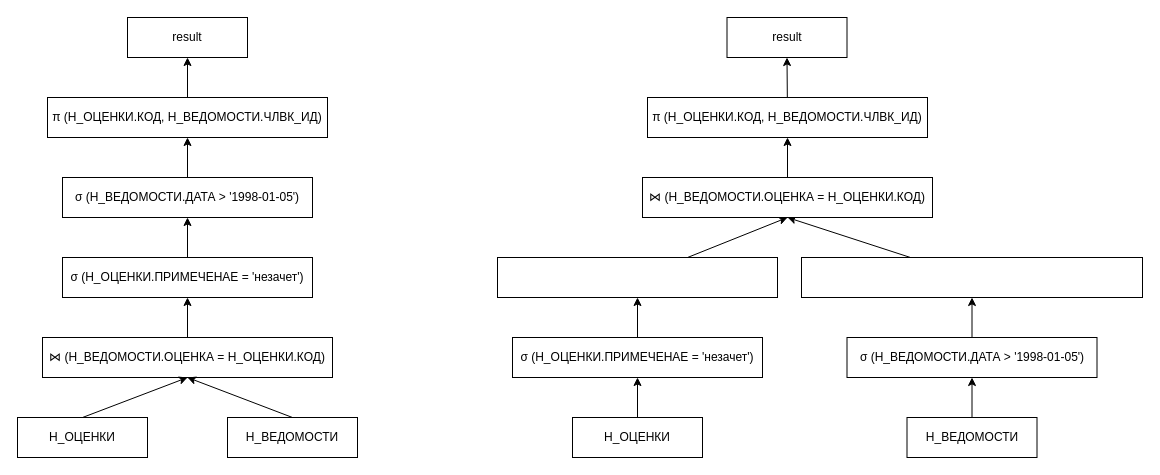
This 1160x475 diagram has some shape labels left out. The shapes that lost their labels are listed below. From the top down, each one's centre as x and y in pixels, then its label:
point (637, 277): π (Н_ОЦЕНКИ.КОД)
point (971, 277): π (Н_ВЕДОМОСТИ.ОЦЕНКА, Н_ВЕДОМОСТИ.ЧЛВК_ИД)
